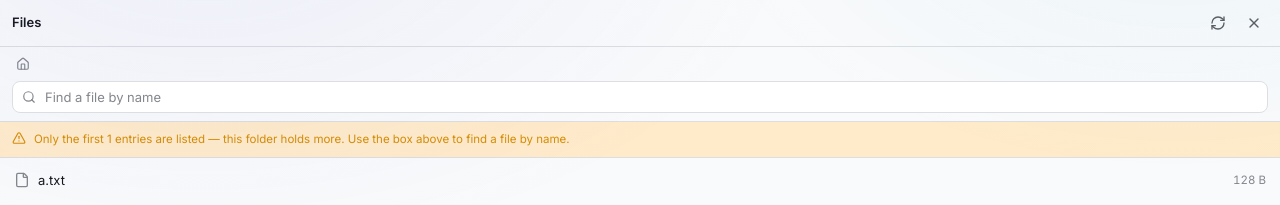
Test: a folder too large to list › does not carry the warning into a search, which is capped differently
The width and height of the screenshot is (1280, 205).
Expected: the message is shown, [0,122,1279,158]
Type "bail" into the search field labelled "Find a file by name" at (640, 97), box [12,81,1268,113]
Wait 300 ms
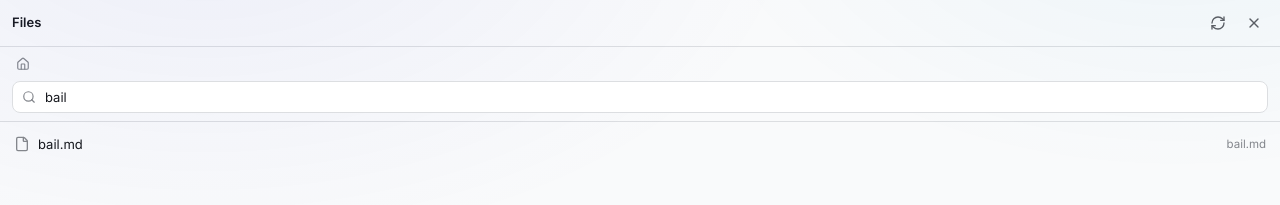
Expected: the message "Only the first 1 entries are listed — this folder holds more. Use the box above" is gone
